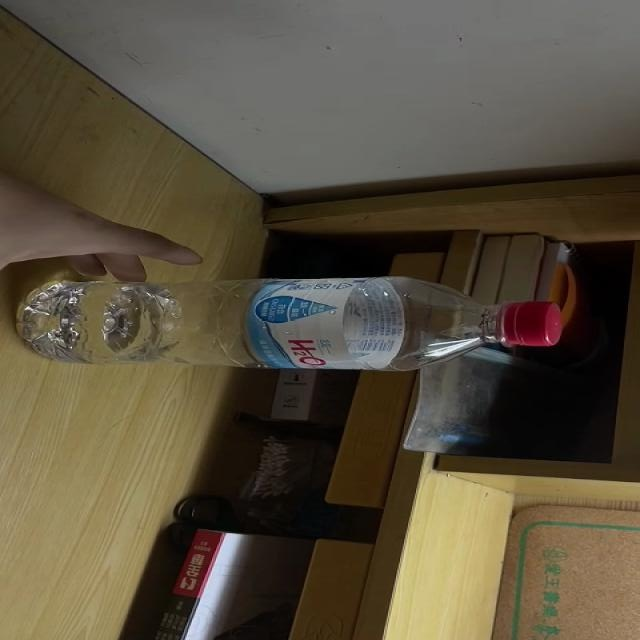Water: (15, 276, 561, 372)
